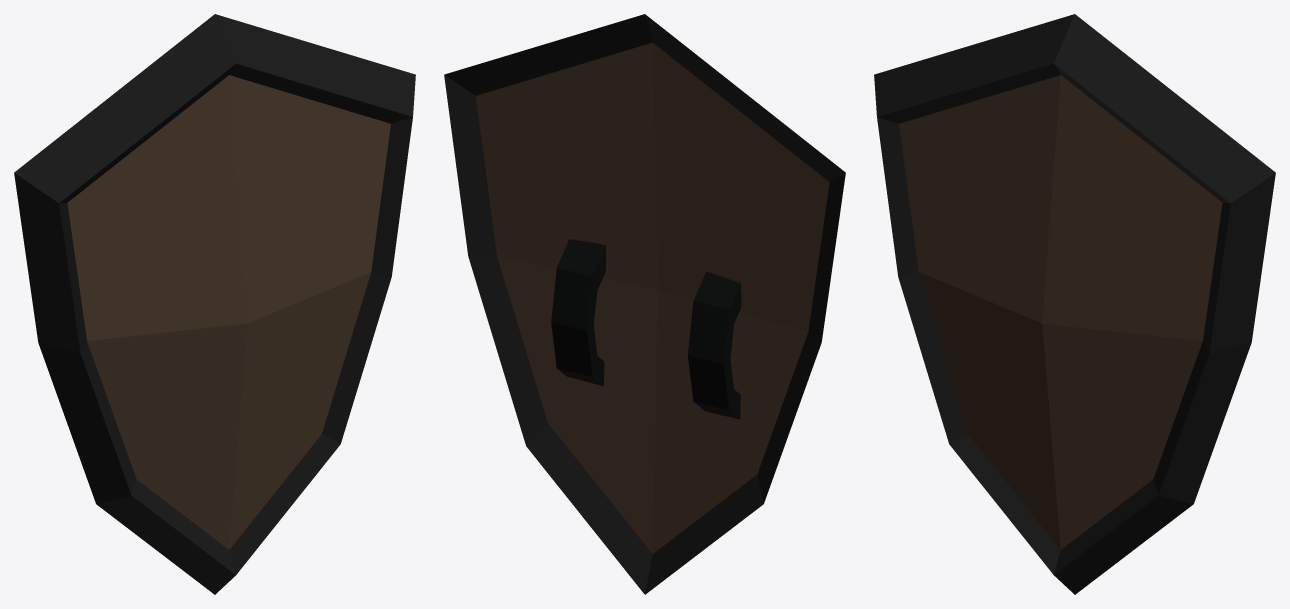
Rendered from Shield.FBX.
The picture shows the model from 3 angles, left to right: view 1: azimuth 30°, elevation 25°; view 2: azimuth 150°, elevation 25°; view 3: azimuth 330°, elevation 25°; orthographic projection.
Visible parts, largest first — view 1: Shield; view 2: Shield; view 3: Shield.
Part boxes in pixels (x1,y1,x2,y2): Shield: [14, 14, 415, 594]; Shield: [444, 14, 845, 594]; Shield: [874, 14, 1275, 594].
Bounding box in the file's own units: 76.47 × 106 × 13.28.
